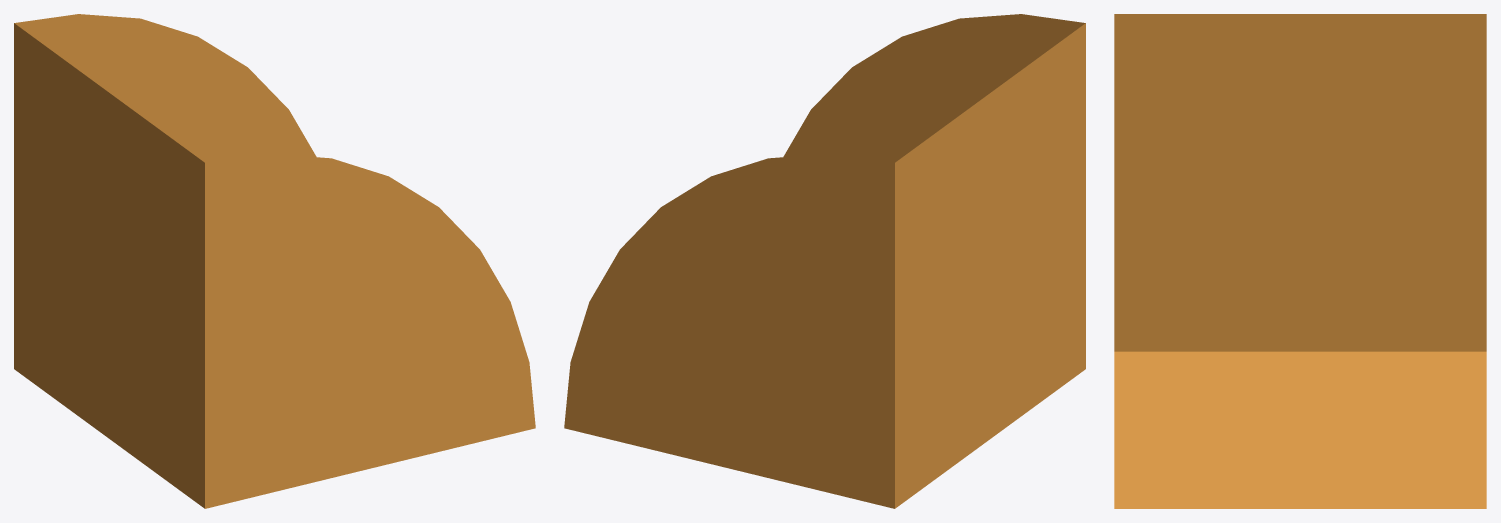
The model's file is r4c3_body_orange.gltf.
The picture shows the model from 3 angles, left to right: view 1: azimuth 30°, elevation 25°; view 2: azimuth 150°, elevation 25°; view 3: azimuth 270°, elevation 25°; orthographic projection. The views are drawn at different scales.
Visible parts, largest first — view 1: r4c3_body_orange; view 2: r4c3_body_orange; view 3: r4c3_body_orange.
Boxes of the visible parts, box(x1,y1,x2,y2) form: r4c3_body_orange: box(14, 14, 535, 508); r4c3_body_orange: box(564, 14, 1085, 508); r4c3_body_orange: box(1114, 14, 1486, 508).
Bounding box in the file's own units: 2 × 2 × 2.
1 material, 1 textured.
